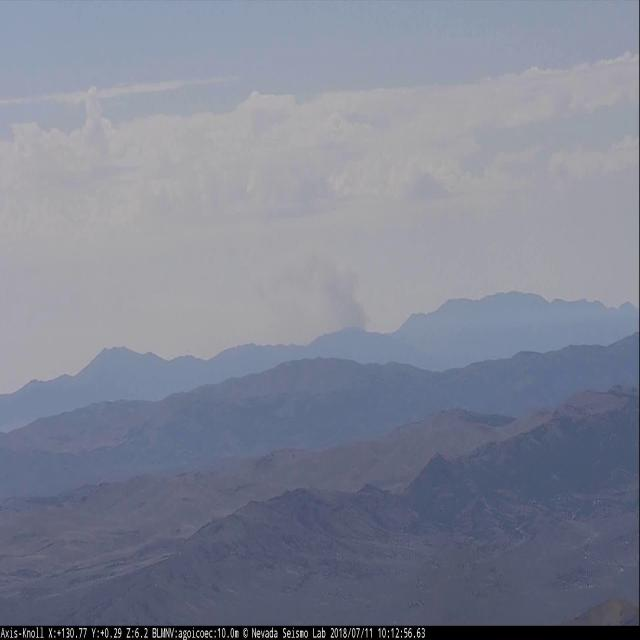smoke: (263, 249, 370, 329)
